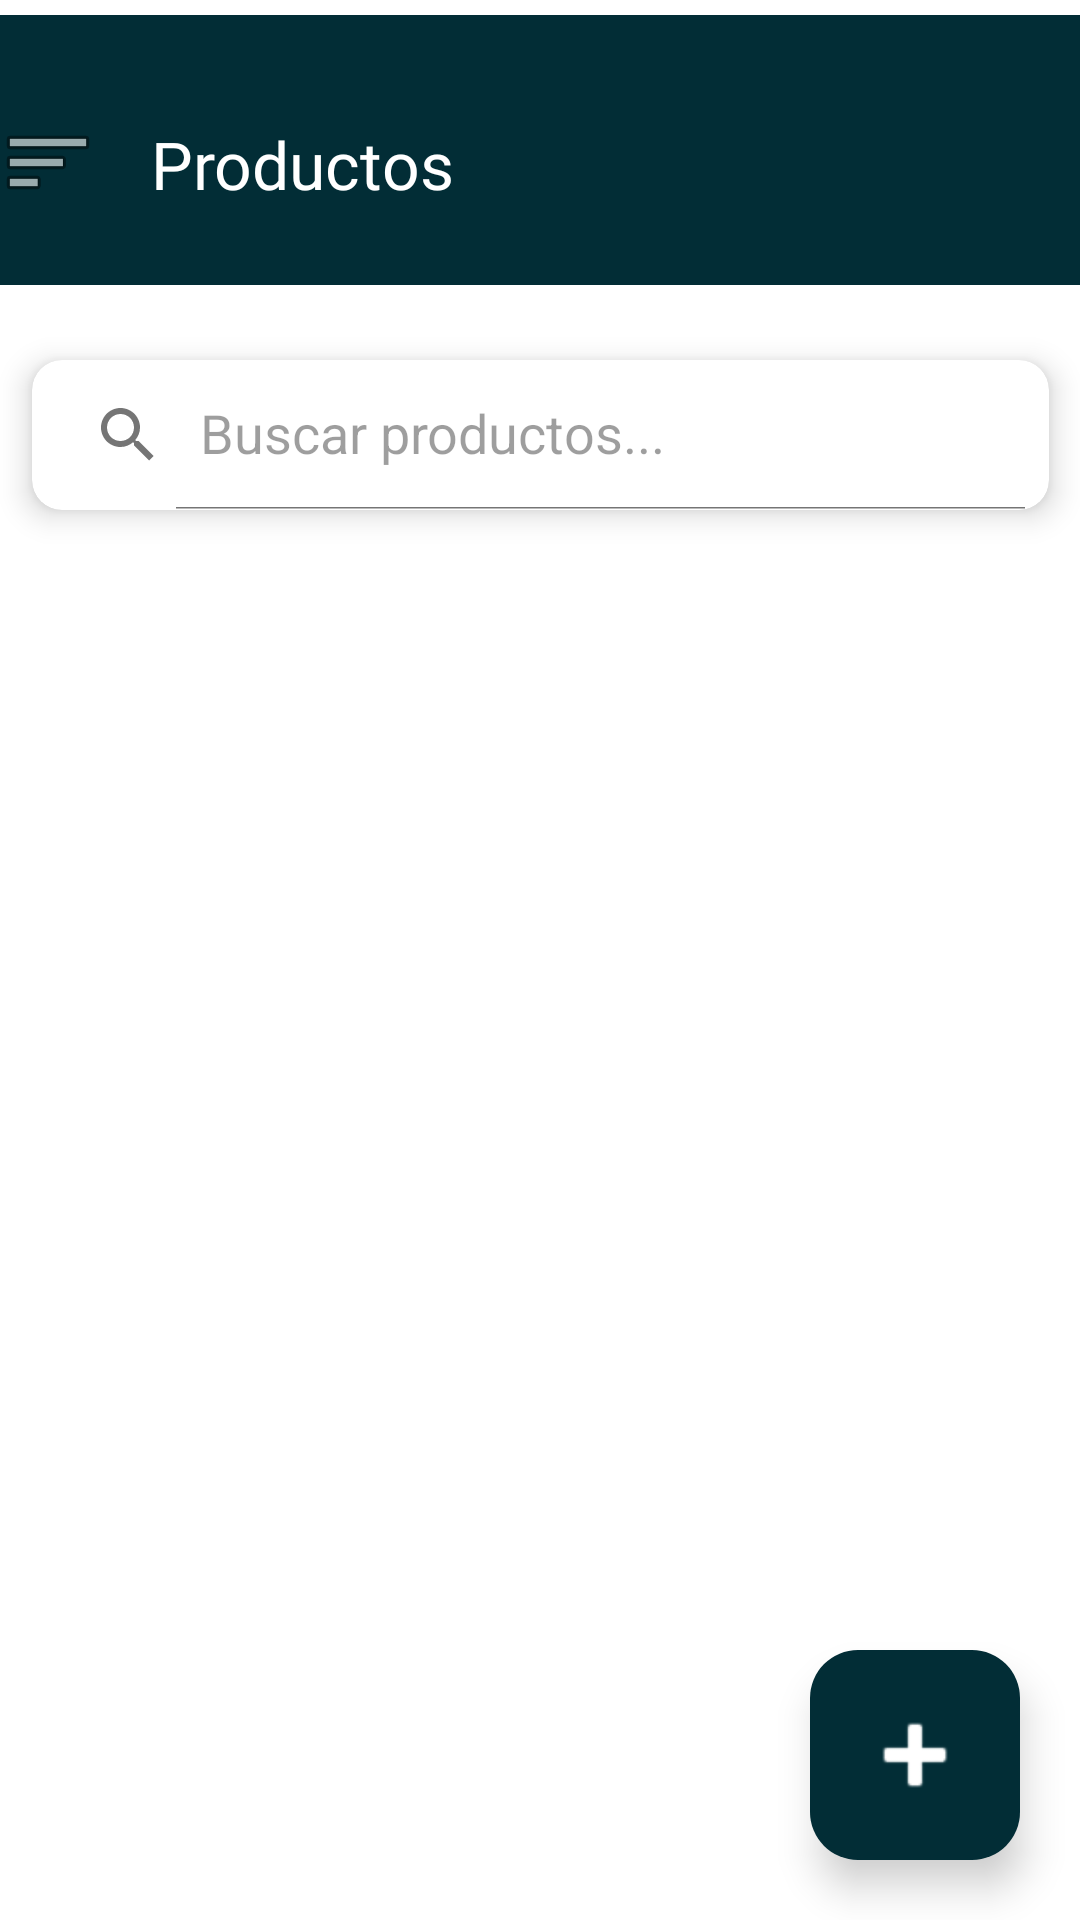

Point at icon controls on the screen. Image size 1080w x 1920h, points as [x,y].
Agregar producto: [915,1755]
